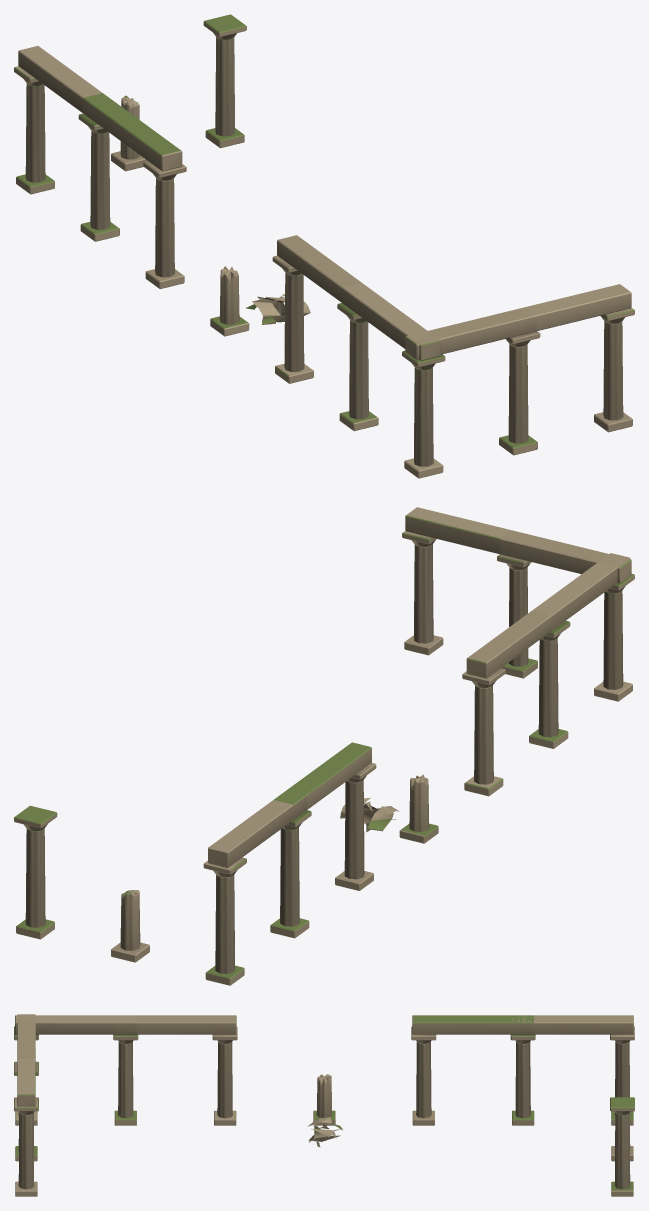
File: Colonnade.glb
The picture shows the model from 3 angles, top to bottom: view 1: azimuth 30°, elevation 25°; view 2: azimuth 150°, elevation 25°; view 3: azimuth 270°, elevation 25°; orthographic projection. The views are drawn at different scales.
Visible parts, largest first — view 1: Colonnade; view 2: Colonnade; view 3: Colonnade.
Boxes of the visible parts, bbox=[...] form: Colonnade: bbox=[14, 14, 634, 478]; Colonnade: bbox=[14, 507, 634, 985]; Colonnade: bbox=[14, 1014, 634, 1196].
Bounding box in the file's own units: 25.26 × 14.8 × 81.25.
